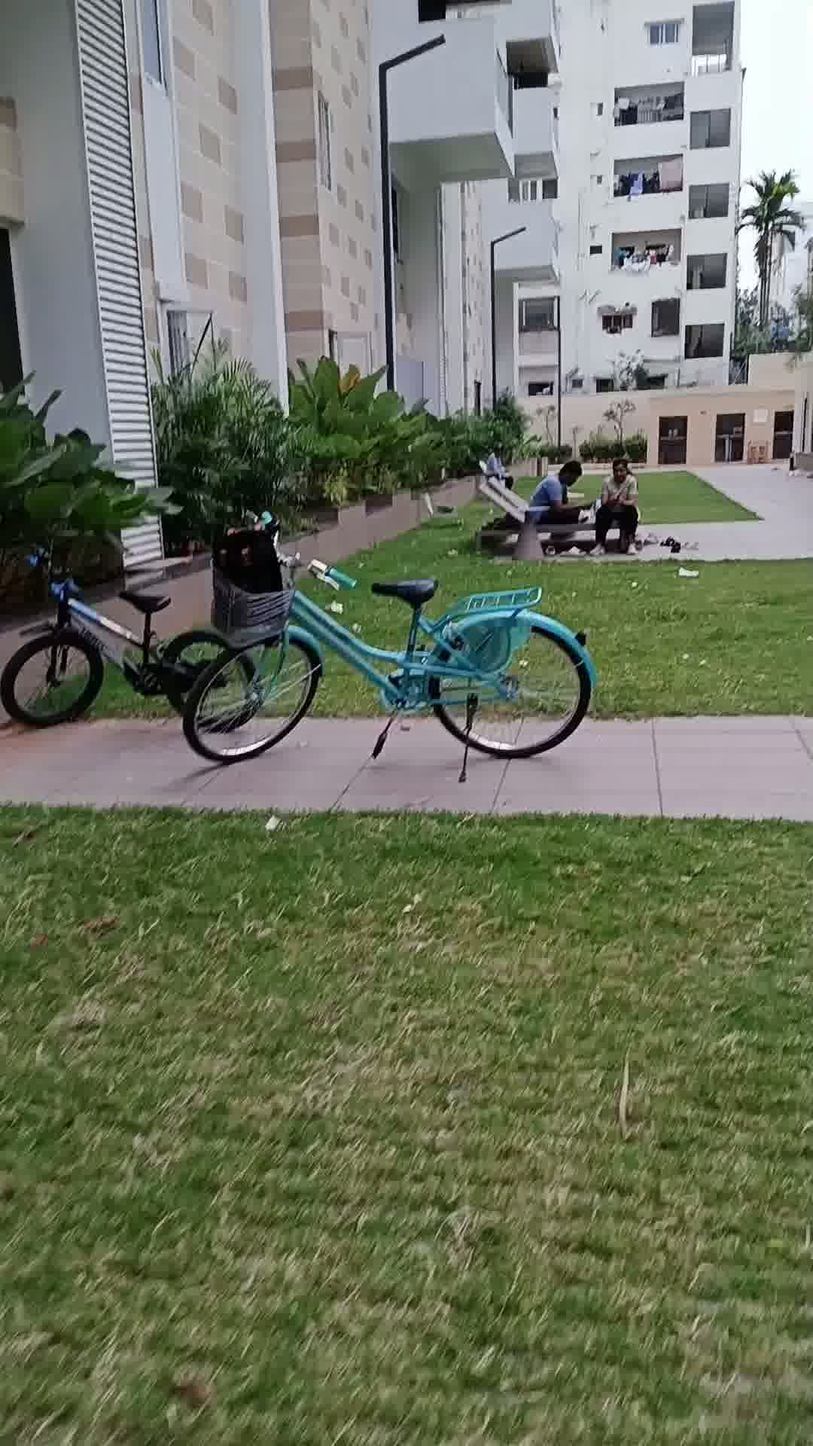bicycle: (185, 495, 609, 800), (0, 529, 250, 777)
person: (595, 441, 646, 569), (532, 444, 583, 558)
tree: (731, 162, 799, 362)
